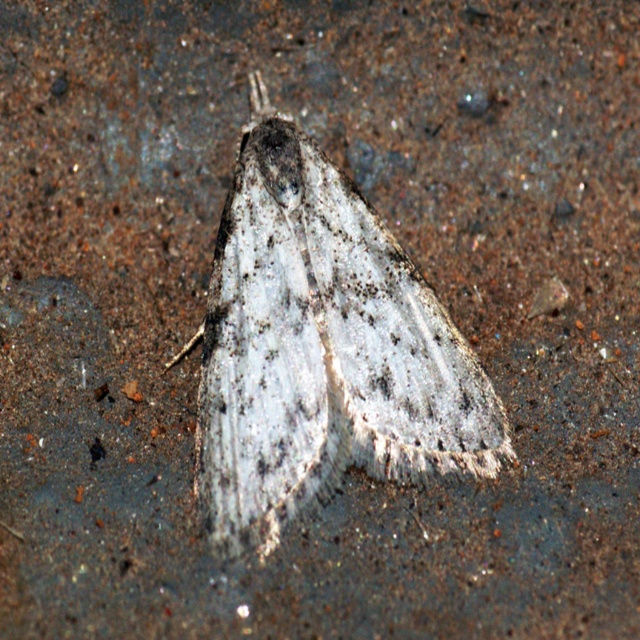Moths and butterflies: (162, 69, 516, 561)
